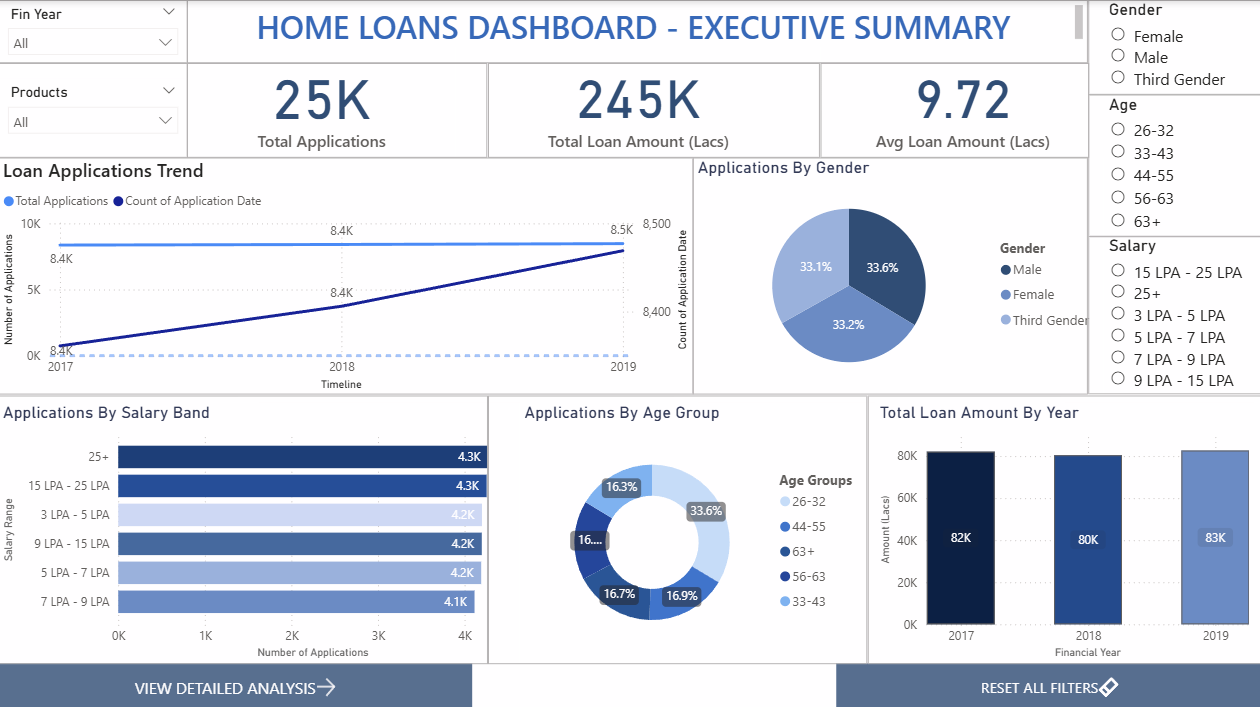

What the dashboard file says about the page in this screenshot:
{"tool":"powerbi","page":{"name":"Executive Summary","canvas":[1280,720],"ordinal":0},"visuals":[{"type":"textbox","box":[192,0,912,48],"z":0},{"type":"card","fields":{"Values":["Customer.Total Applications"]},"box":[192,48,272,112],"z":1000},{"type":"card","fields":{"Values":["Customer.Total Loan Amount (Lacs)"]},"box":[464,48,368,112],"z":2000},{"type":"card","fields":{"Values":["Customer.Avg Loan Amount (Lacs)"]},"box":[832,48,288,112],"z":3000},{"type":"lineChart","title":"Loan Applications Trend","fields":{"Category":["Customer.Fin Year"],"Y":["Customer.Total Applications"],"Y2":["CountNonNull(Customer.Application Date)"]},"box":[0,160,704,240],"z":4000},{"type":"clusteredColumnChart","title":"Total Loan Amount By Year","fields":{"Category":["Customer.Fin Year"],"Y":["Customer.Total Loan Amount (Lacs)"]},"box":[888,408,384,264],"z":5000},{"type":"pieChart","title":"Applications By Gender","fields":{"Category":["Customer.Gender"],"Y":["Customer.Total Applications"]},"box":[704,160,416,240],"z":6000},{"type":"donutChart","title":"Applications By Age Group","fields":{"Category":["Customer.Age"],"Y":["Customer.Total Applications"]},"box":[528,408,360,264],"z":7000},{"type":"barChart","title":"Applications By Salary Band","fields":{"Category":["Customer.Salary"],"Y":["Customer.Total Applications"]},"box":[0,408,528,264],"z":8000},{"type":"actionButton","box":[0,672,480,48],"z":9000},{"type":"actionButton","box":[848,672,432,48],"z":10000},{"type":"listSlicer","fields":{"Values":["Customer.Gender"]},"box":[1120,0,160,96],"z":11000},{"type":"listSlicer","fields":{"Values":["Customer.Age"]},"box":[1120,96,160,144],"z":12000},{"type":"listSlicer","fields":{"Values":["Customer.Salary"]},"box":[1120,240,160,160],"z":13000},{"type":"slicer","fields":{"Values":["Product.Products"]},"box":[0,80,192,80],"z":14000},{"type":"slicer","fields":{"Values":["Customer.Fin Year"]},"box":[0,0,192,72],"z":15000},{"type":"shape","box":[0,0,1280,720],"z":16000},{"type":"shape","box":[0,0,1280,720],"z":17000},{"type":"shape","box":[832,64,272,96],"z":18000},{"type":"shape","box":[0,160,704,240],"z":19000},{"type":"shape","box":[704,160,400,240],"z":20000},{"type":"shape","box":[0,400,496,272],"z":21000},{"type":"shape","box":[496,400,384,272],"z":22000},{"type":"shape","box":[880,400,400,272],"z":23000},{"type":"shape","box":[0,0,192,64],"z":24000},{"type":"shape","box":[0,64,192,96],"z":25000},{"type":"shape","box":[1104,0,176,96],"z":26000},{"type":"shape","box":[1104,96,176,144],"z":27000},{"type":"shape","box":[1104,240,176,160],"z":28000},{"type":"shape","box":[192,0,912,64],"z":29000},{"type":"shape","box":[496,64,336,96],"z":30000},{"type":"shape","box":[192,64,304,96],"z":31000}]}

Visuals, with their boxes in screenshot pixels (x1, y1, x2, y2), scaled from the page's 1280x720 canvas onto the 1260x707 screenshot:
textbox: (left=189, top=0, right=1087, bottom=47)
card - Customer.Total Applications: (left=189, top=47, right=457, bottom=157)
card - Customer.Total Loan Amount (Lacs): (left=457, top=47, right=819, bottom=157)
card - Customer.Avg Loan Amount (Lacs): (left=819, top=47, right=1102, bottom=157)
"Loan Applications Trend" lineChart: (left=0, top=157, right=693, bottom=393)
"Total Loan Amount By Year" clusteredColumnChart: (left=874, top=401, right=1252, bottom=660)
"Applications By Gender" pieChart: (left=693, top=157, right=1102, bottom=393)
"Applications By Age Group" donutChart: (left=520, top=401, right=874, bottom=660)
"Applications By Salary Band" barChart: (left=0, top=401, right=520, bottom=660)
actionButton: (left=0, top=660, right=472, bottom=706)
actionButton: (left=835, top=660, right=1259, bottom=706)
listSlicer - Customer.Gender: (left=1102, top=0, right=1259, bottom=94)
listSlicer - Customer.Age: (left=1102, top=94, right=1259, bottom=236)
listSlicer - Customer.Salary: (left=1102, top=236, right=1259, bottom=393)
slicer - Product.Products: (left=0, top=79, right=189, bottom=157)
slicer - Customer.Fin Year: (left=0, top=0, right=189, bottom=71)
shape: (left=0, top=0, right=1259, bottom=706)
shape: (left=0, top=0, right=1259, bottom=706)
shape: (left=819, top=63, right=1087, bottom=157)
shape: (left=0, top=157, right=693, bottom=393)
shape: (left=693, top=157, right=1087, bottom=393)
shape: (left=0, top=393, right=488, bottom=660)
shape: (left=488, top=393, right=866, bottom=660)
shape: (left=866, top=393, right=1259, bottom=660)
shape: (left=0, top=0, right=189, bottom=63)
shape: (left=0, top=63, right=189, bottom=157)
shape: (left=1087, top=0, right=1259, bottom=94)
shape: (left=1087, top=94, right=1259, bottom=236)
shape: (left=1087, top=236, right=1259, bottom=393)
shape: (left=189, top=0, right=1087, bottom=63)
shape: (left=488, top=63, right=819, bottom=157)
shape: (left=189, top=63, right=488, bottom=157)
